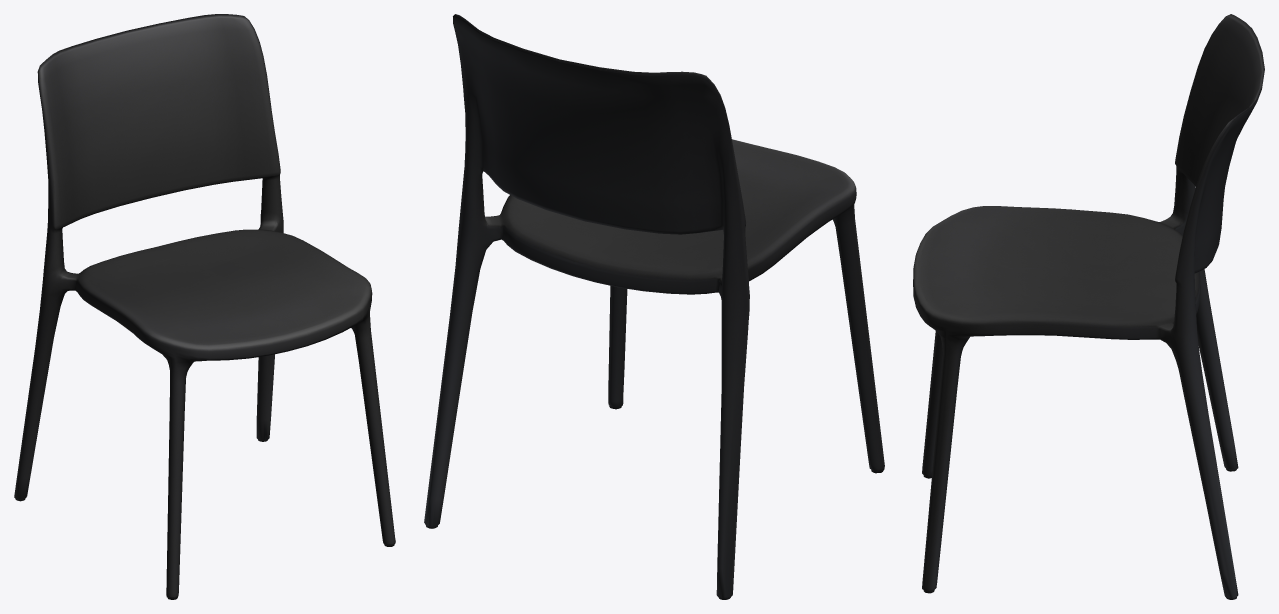
File: joy_grey_pvc.glb
3 renders of one model, left to right at view 1: azimuth 30°, elevation 25°; view 2: azimuth 150°, elevation 25°; view 3: azimuth 270°, elevation 25°, orthographic. The views are drawn at different scales.
Parts seen in each view (by area): view 1: joy-grey; view 2: joy-grey; view 3: joy-grey.
Part boxes in pixels (x1,y1,x2,y2): joy-grey: [14, 14, 395, 599]; joy-grey: [424, 14, 884, 599]; joy-grey: [913, 14, 1264, 599].
Size of the model in its own units: 0.4893 by 0.7937 by 0.5413.
1 material, 1 textured.
